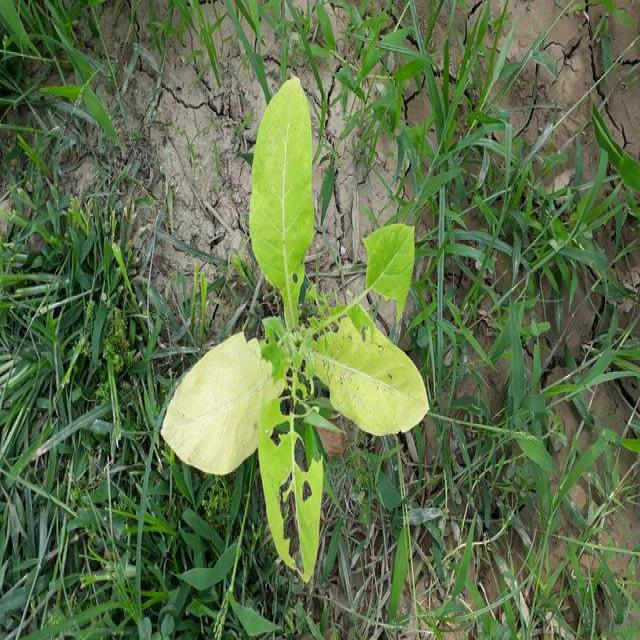crop: (154, 70, 432, 592)
